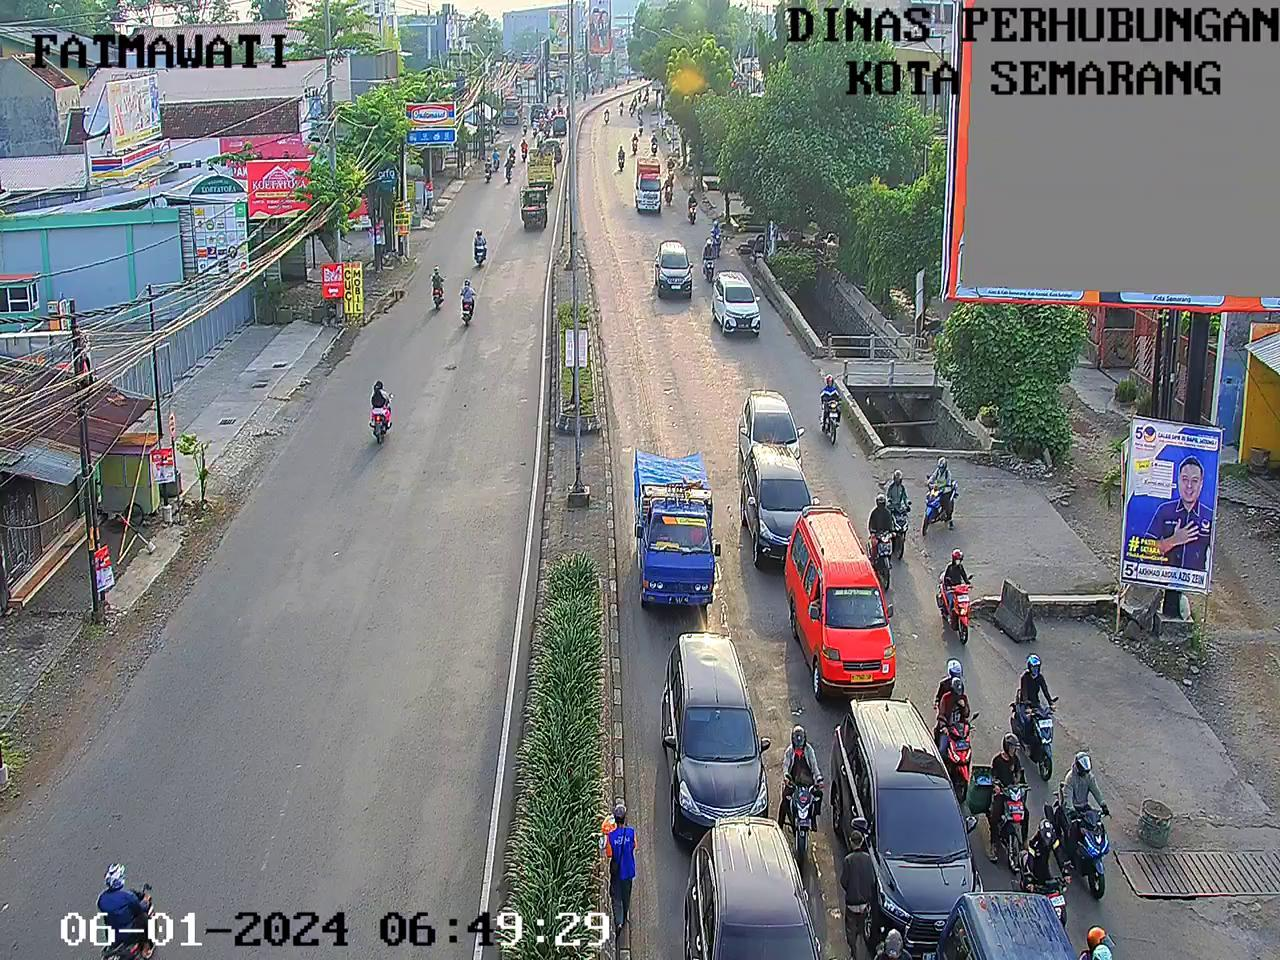car: (834, 694, 983, 933), (656, 623, 771, 833), (778, 499, 897, 693), (679, 808, 820, 960), (628, 442, 726, 619), (739, 445, 825, 568), (734, 385, 807, 463), (709, 267, 764, 341), (642, 240, 700, 305)
motorcycle: (972, 731, 1035, 869), (1006, 646, 1069, 785), (1059, 751, 1115, 899), (776, 718, 836, 856), (924, 653, 980, 789), (1023, 817, 1069, 927), (936, 548, 979, 644), (867, 491, 900, 596), (814, 368, 848, 458), (885, 469, 916, 563), (865, 918, 922, 960), (1072, 913, 1120, 960), (684, 188, 702, 237), (700, 235, 716, 284), (709, 216, 725, 255), (665, 170, 677, 208), (648, 129, 661, 160), (616, 143, 627, 175), (629, 130, 640, 160), (602, 107, 612, 128), (637, 117, 646, 137), (668, 155, 677, 174), (618, 98, 625, 117), (632, 93, 640, 107), (636, 105, 644, 118), (629, 101, 635, 117), (642, 94, 648, 108), (638, 89, 643, 104), (645, 87, 651, 98)
truck: (633, 155, 665, 217)
